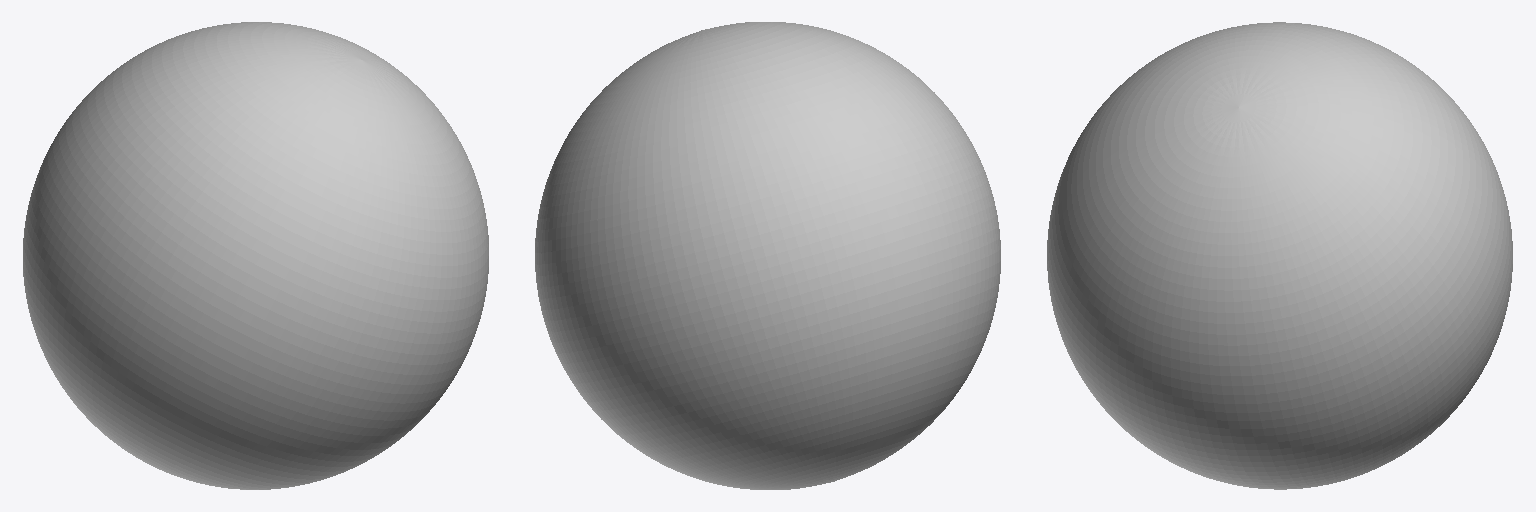
The model's file is sun.obj.
The picture shows the model from 3 angles: view 1: azimuth 30°, elevation 25°; view 2: azimuth 150°, elevation 25°; view 3: azimuth 270°, elevation 25°; orthographic projection.
Parts seen in each view (by area): view 1: Sphere; view 2: Sphere; view 3: Sphere.
Part boxes in pixels (x1,y1,x2,y2): Sphere: (23, 22, 488, 489); Sphere: (535, 22, 1000, 489); Sphere: (1047, 22, 1512, 489).
Size of the model in its own units: 1.98 by 1.99 by 1.98.